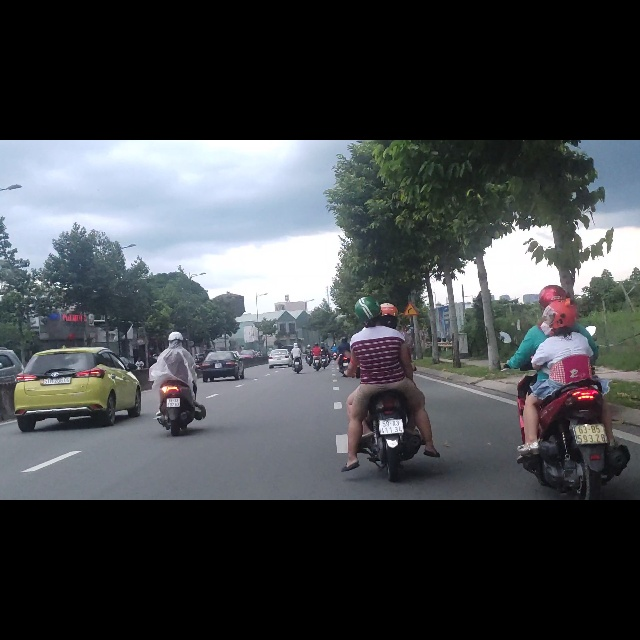bien_nguy_hiem: (403, 289, 418, 313)
